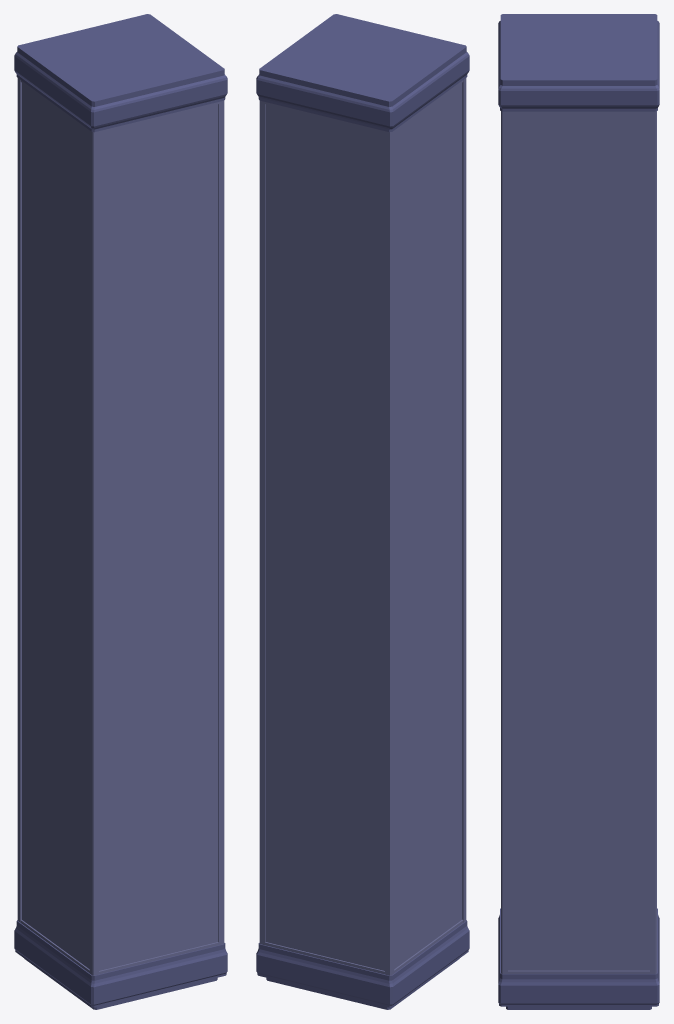
File: mirror-column.glb
The picture shows the model from 3 angles, left to right: view 1: azimuth 30°, elevation 25°; view 2: azimuth 150°, elevation 25°; view 3: azimuth 270°, elevation 25°; orthographic projection. The views are drawn at different scales.
Parts seen in each view (by area): view 1: Column core, Column corner posts, Column cap, Column base; view 2: Column core, Column corner posts, Column cap, Column base; view 3: Column core, Column cap, Column corner posts, Column base.
Part boxes in pixels (x1,y1,x2,y2): Column core: (22,83,218,970); Column corner posts: (17,78,224,975); Column cap: (14,14,227,133); Column base: (14,919,227,1009); Column core: (265,83,461,970); Column corner posts: (259,78,466,975); Column cap: (256,14,469,133); Column base: (256,919,469,1009); Column core: (508,113,649,970); Column cap: (498,14,659,113); Column corner posts: (501,111,656,973); Column base: (498,908,659,1009).
Bounding box in the file's own units: 2.12 × 13.5 × 2.12.
